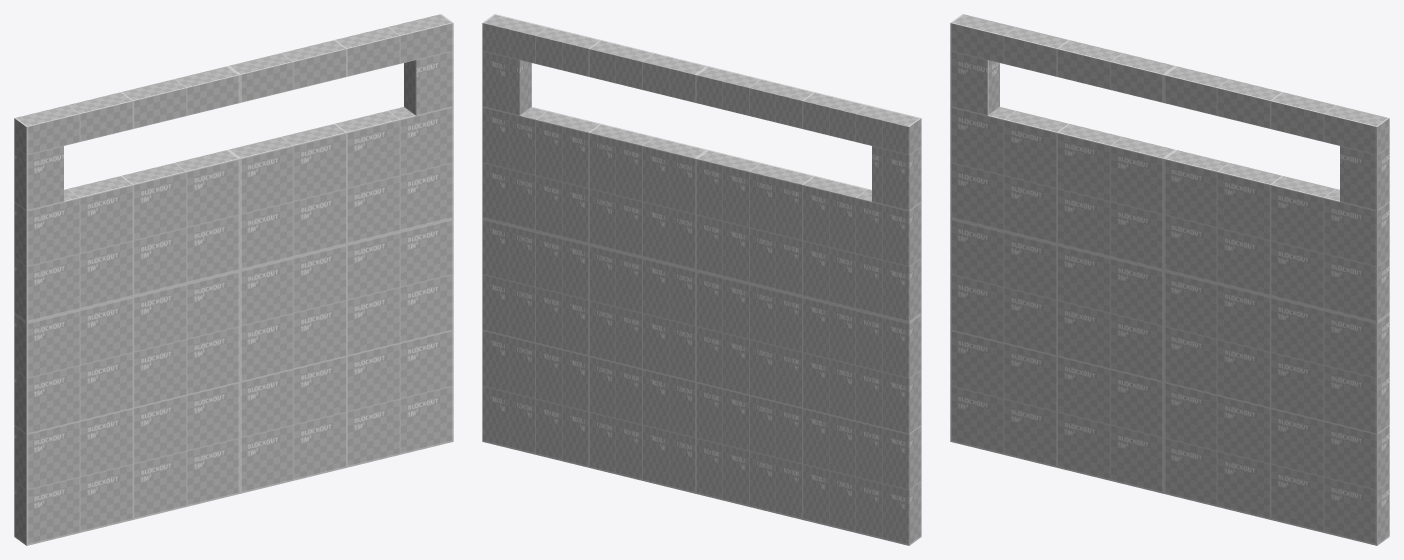
File: BlockoutThinWall08WindowHigh.fbx
The picture shows the model from 3 angles, left to right: view 1: azimuth 30°, elevation 25°; view 2: azimuth 150°, elevation 25°; view 3: azimuth 330°, elevation 25°; orthographic projection.
Visible parts, largest first — view 1: BlockoutThinWall08WindowHigh; view 2: BlockoutThinWall08WindowHigh; view 3: BlockoutThinWall08WindowHigh.
Boxes of the visible parts, <box> form: BlockoutThinWall08WindowHigh: <box>14,14,453,545</box>; BlockoutThinWall08WindowHigh: <box>482,14,921,545</box>; BlockoutThinWall08WindowHigh: <box>950,14,1389,545</box>.
Bounding box in the file's own units: 800 × 750 × 40.
